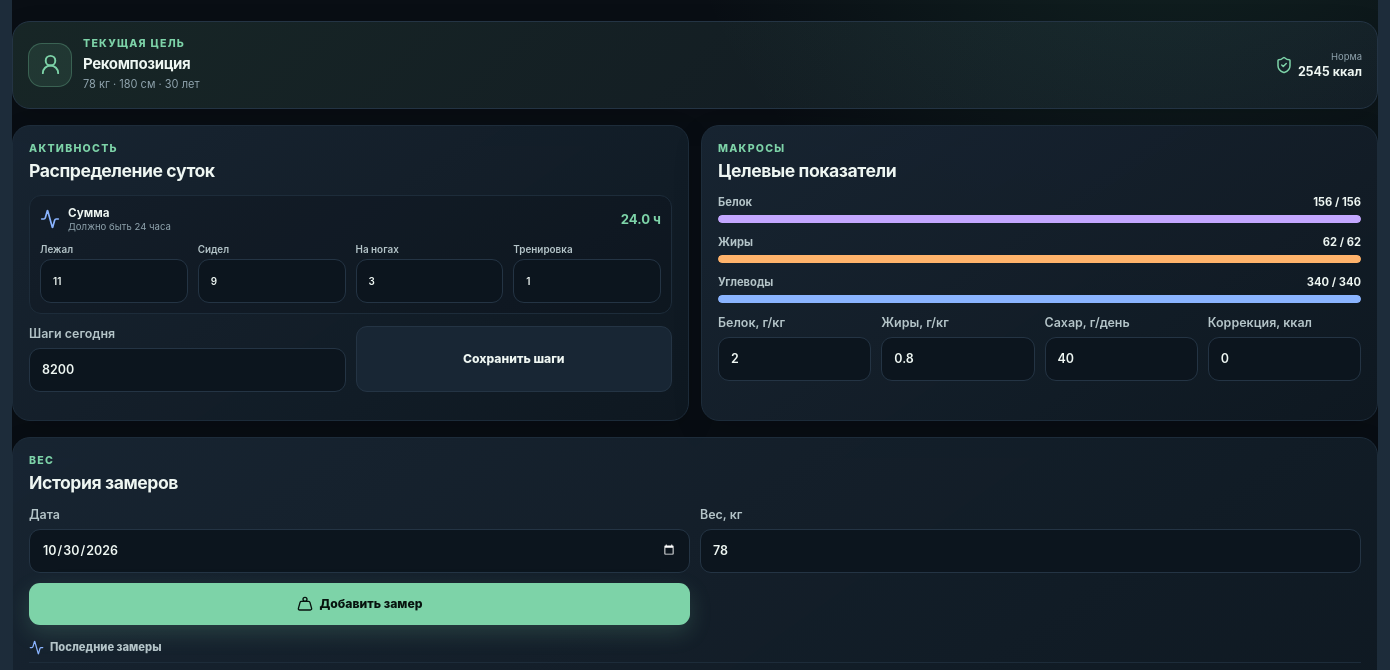
Test case: страница профиля › добавляет замер веса и заменяет замер того же дня
The image size is (1390, 670).
Replace the text in the number field labelled "Вес, кг" with "77.3". click: x=1030, y=551
box: [700,529,1361,573]
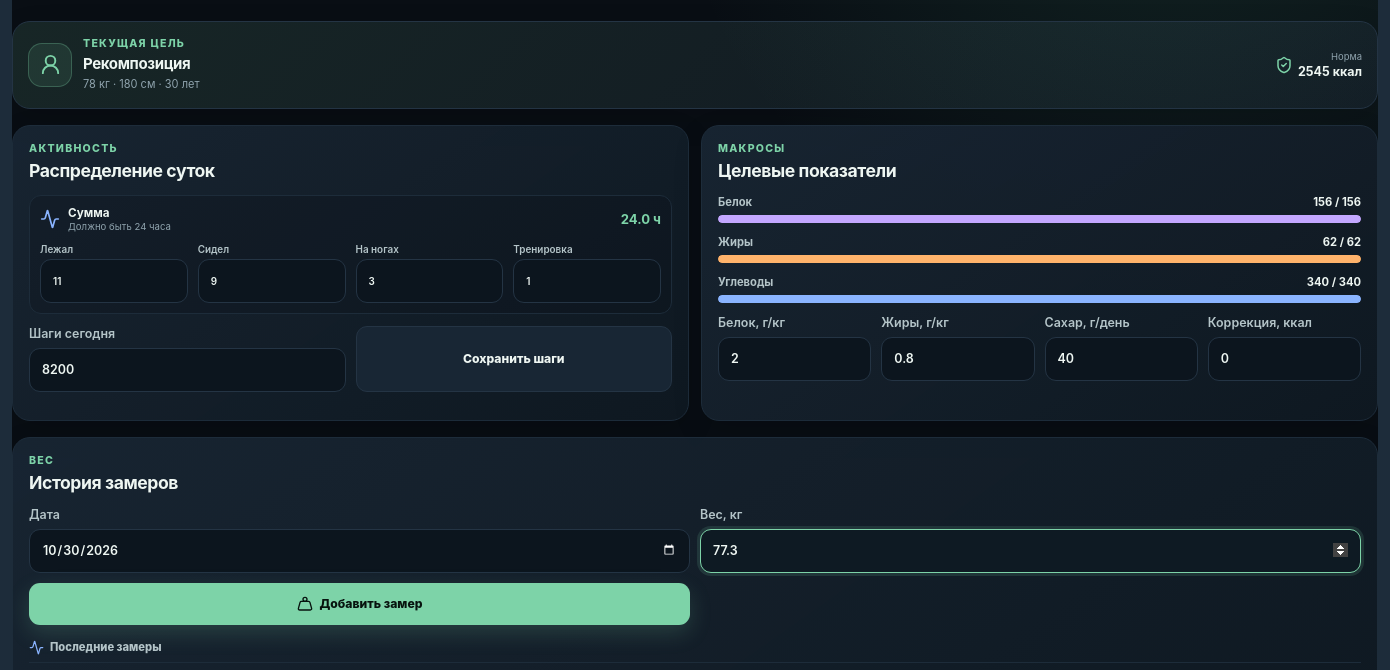
Click the button "Добавить замер". click: x=360, y=604
box: [29,583,690,625]
(page scrolled)
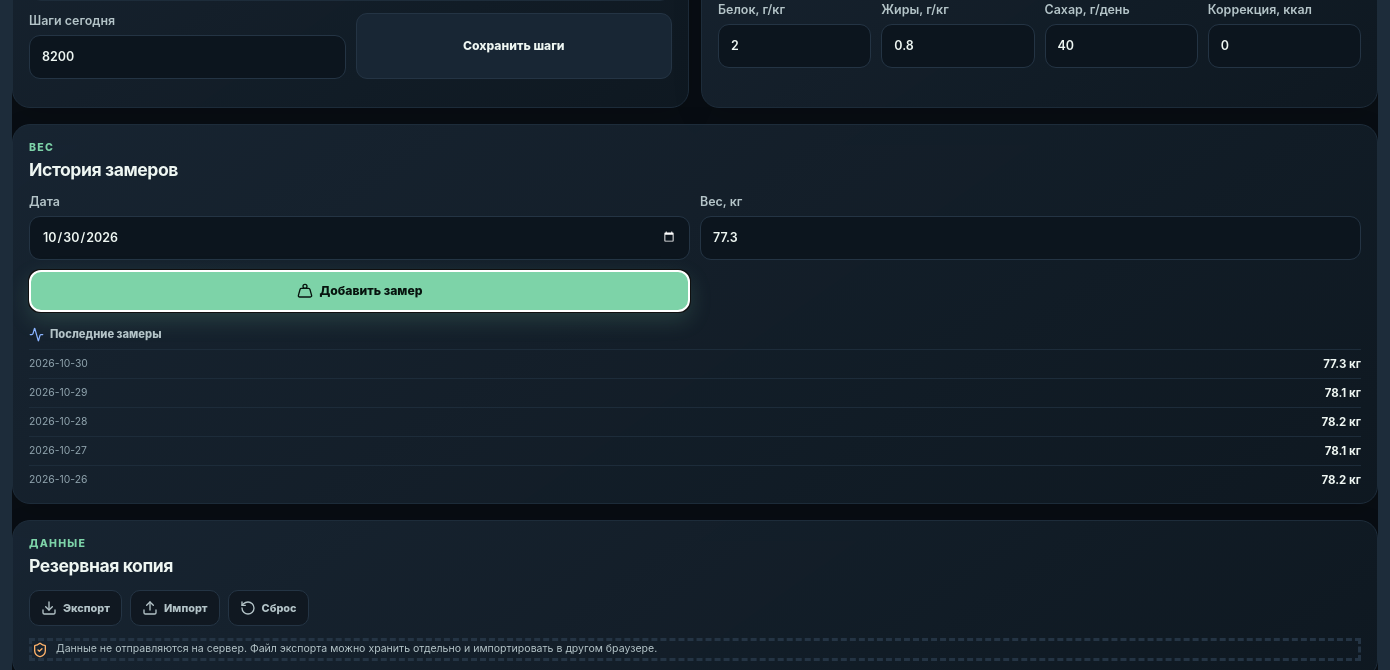
Expected: the element with class "weight-history-row" shows "77.3 кг", [29,349,1361,371]
